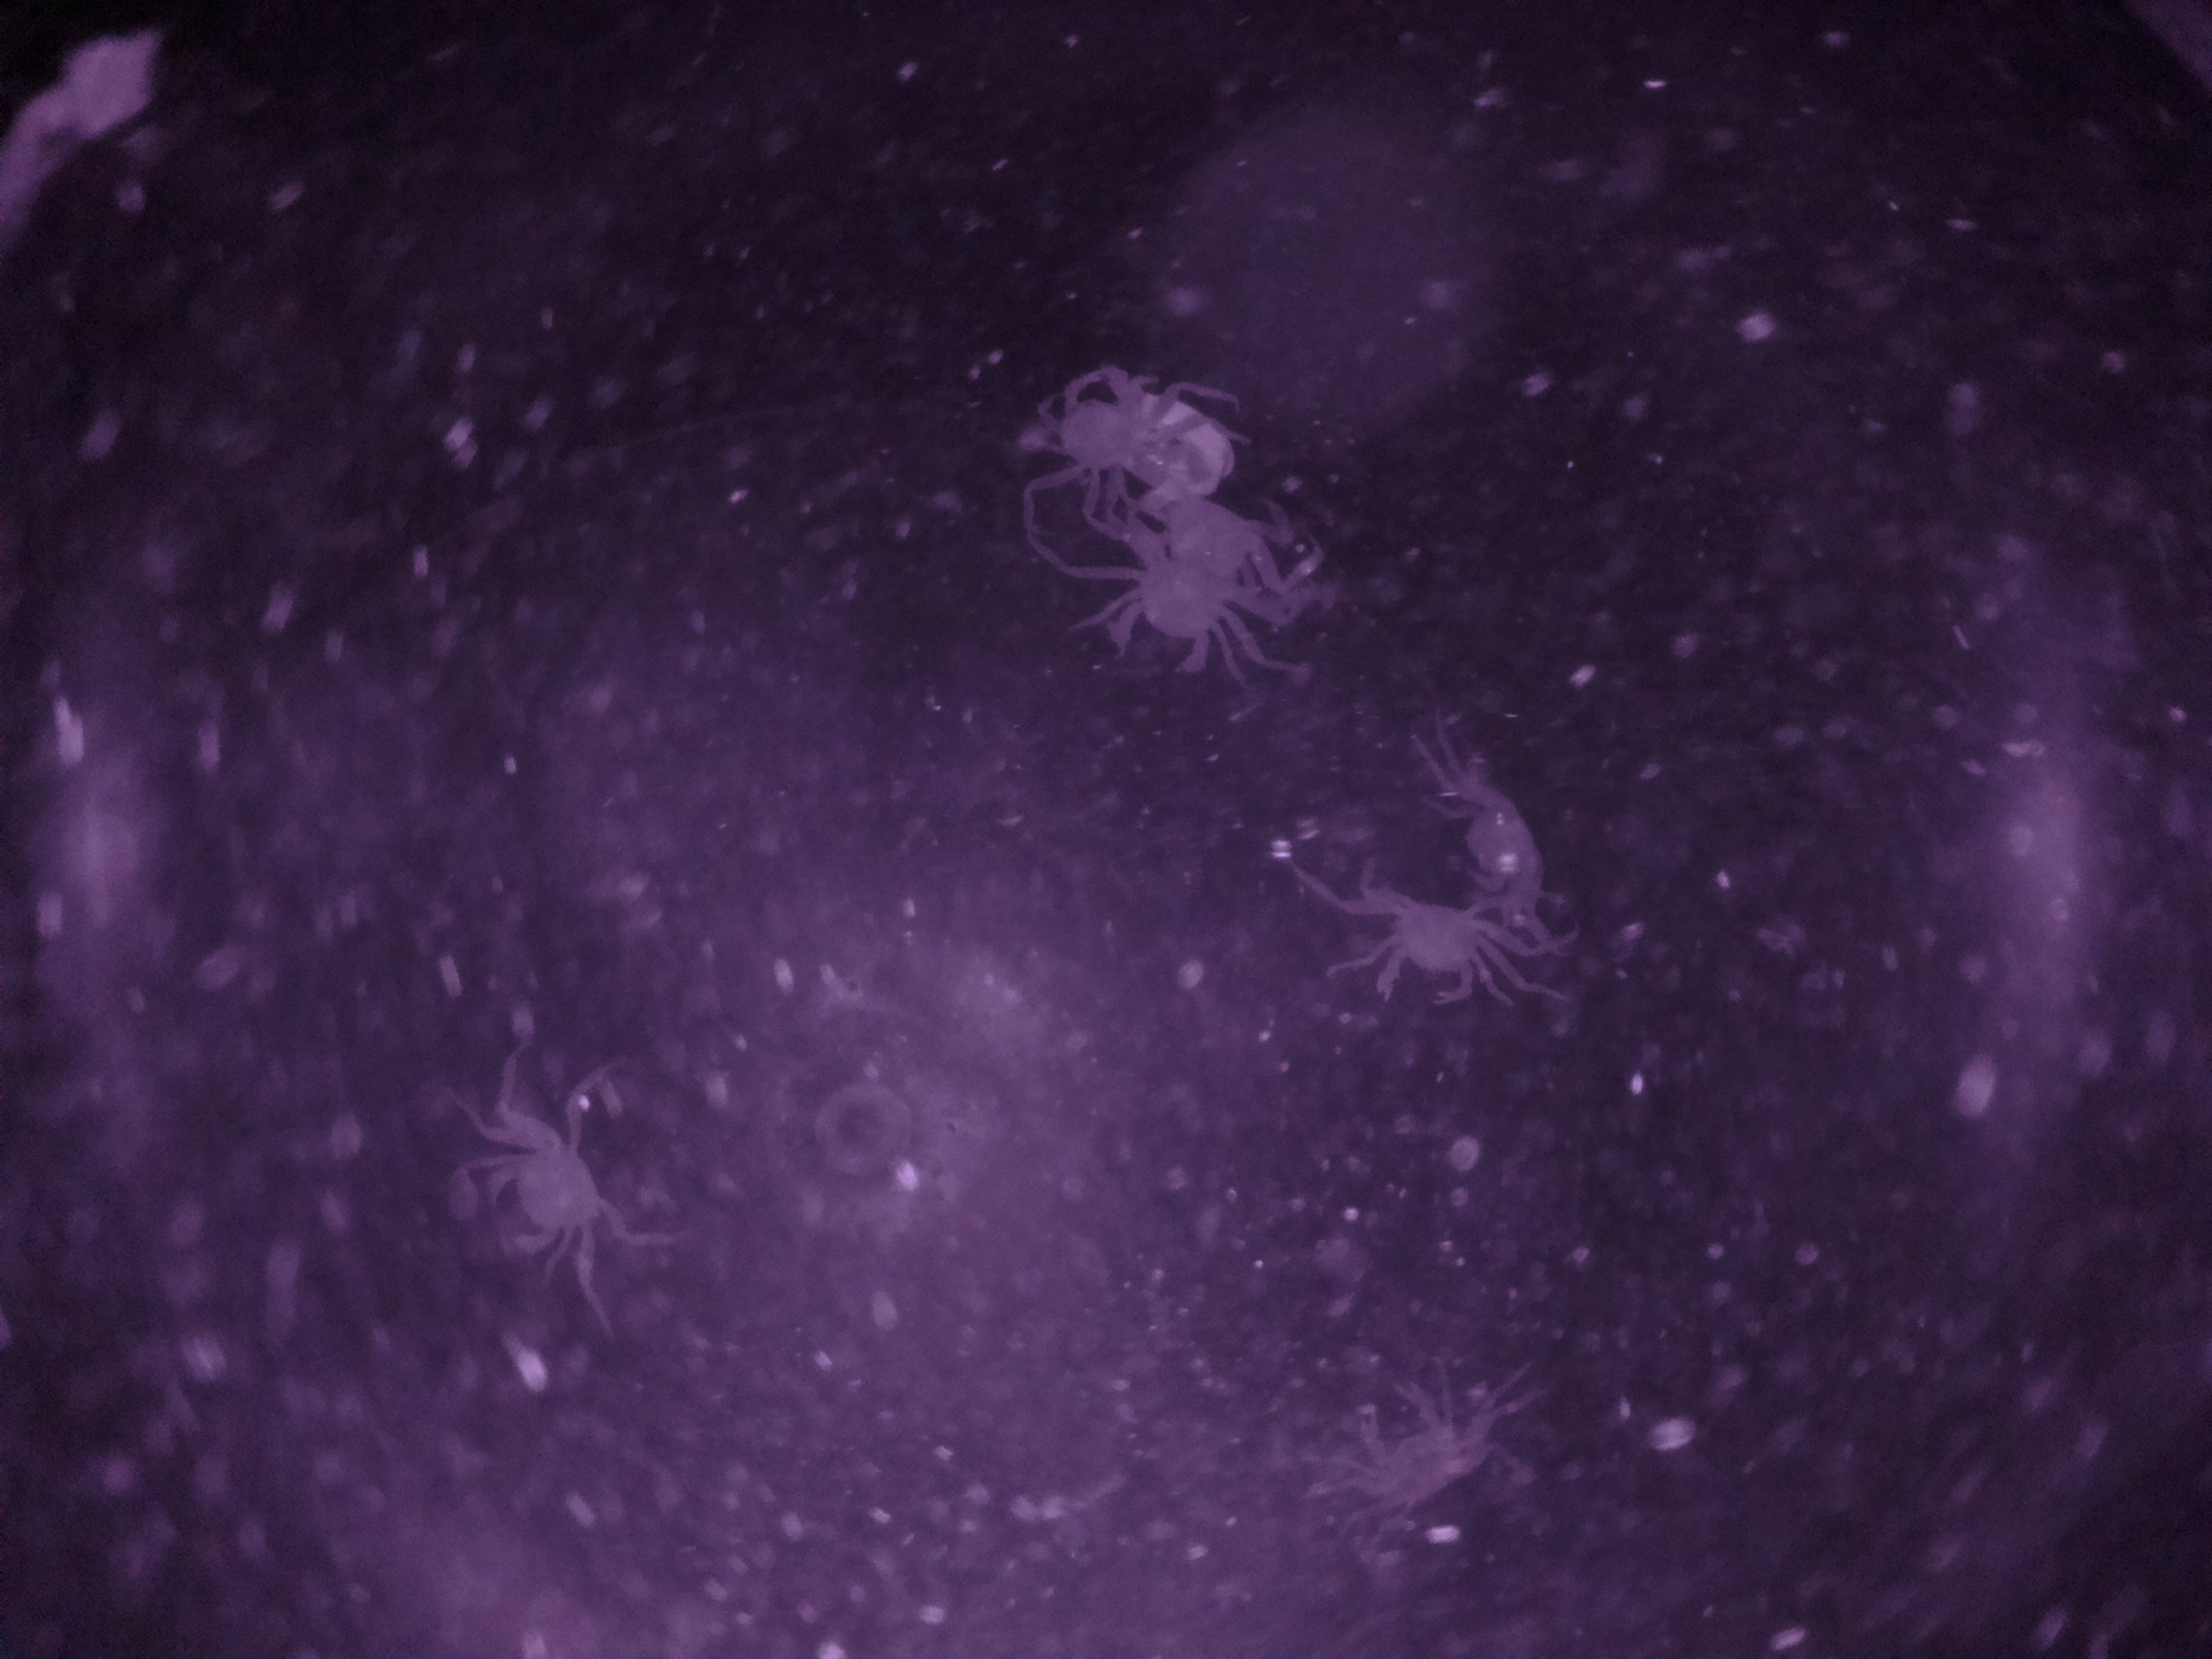Crab: (465, 1084, 665, 1298), (1064, 525, 1280, 678), (1322, 861, 1531, 1011)
